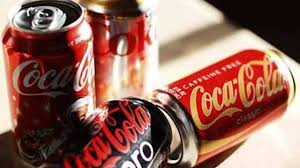coke-can: (6, 1, 95, 162)
